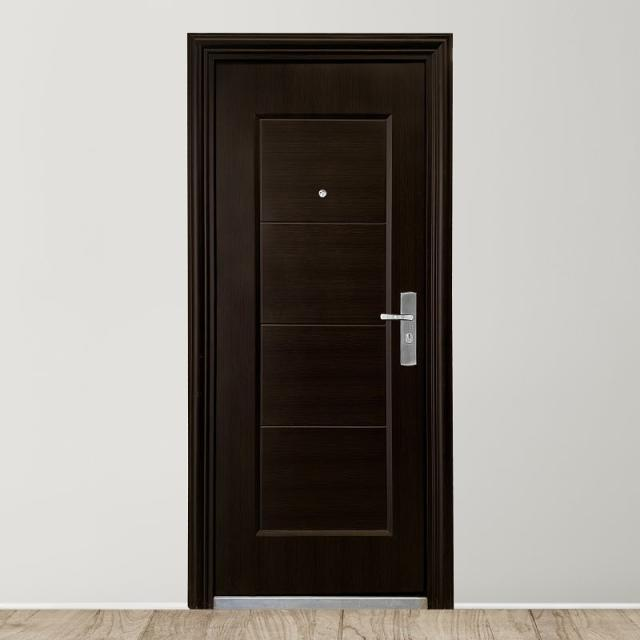door: (188, 33, 451, 609)
